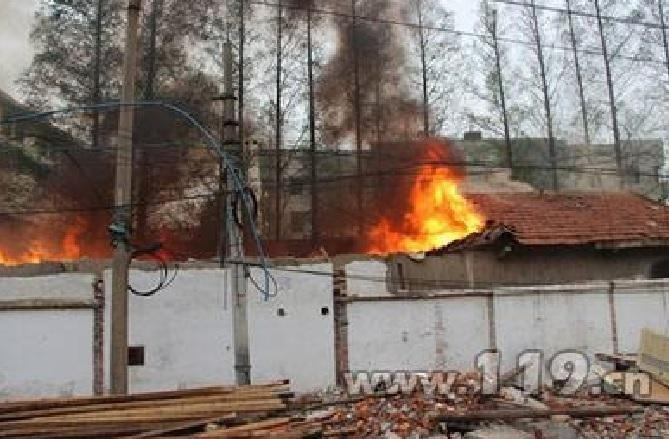fire: (362, 144, 488, 257), (0, 220, 85, 270)
